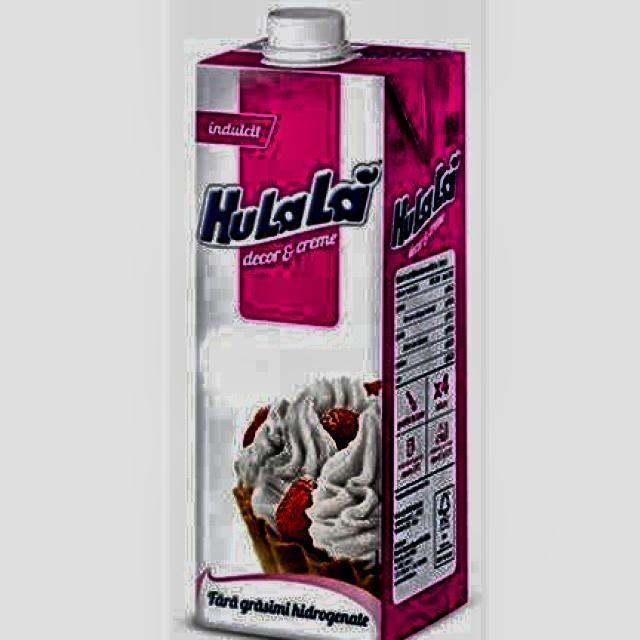cardboard: (191, 10, 468, 640)
